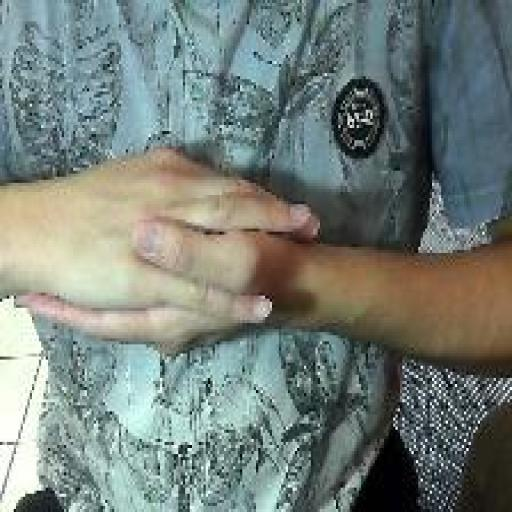Saru -monkey-: (9, 139, 325, 364)
